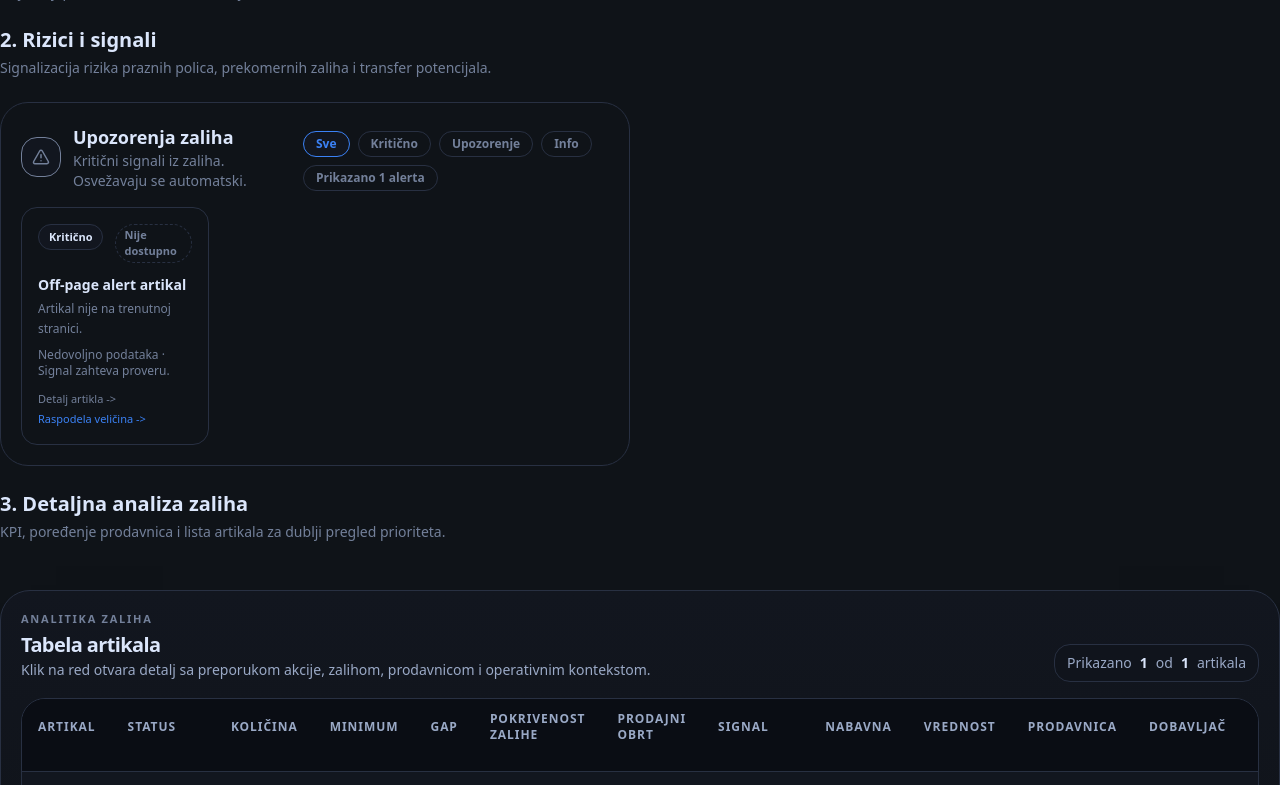
Test case: InventoryPage off-page SKU detail › shows fetched detail values after off-page alert navigation succeeds
The width and height of the screenshot is (1280, 785).
(page scrolled)
Click the button with aria-label "Otvori detalj artikla za alert Off-page alert artikal".
click(77, 399)  # box [38, 391, 116, 408]
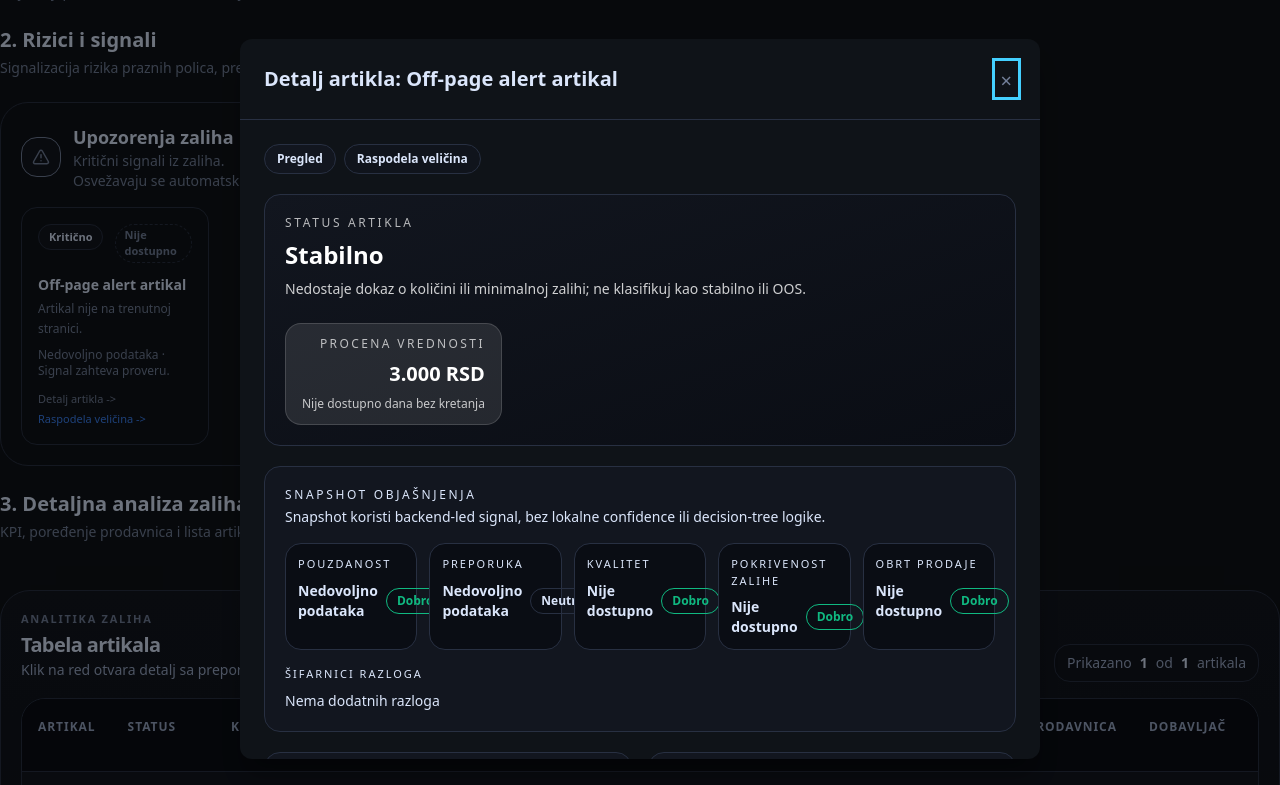
Result: the text "3.000 RSD" is shown at [389, 360, 485, 387]
